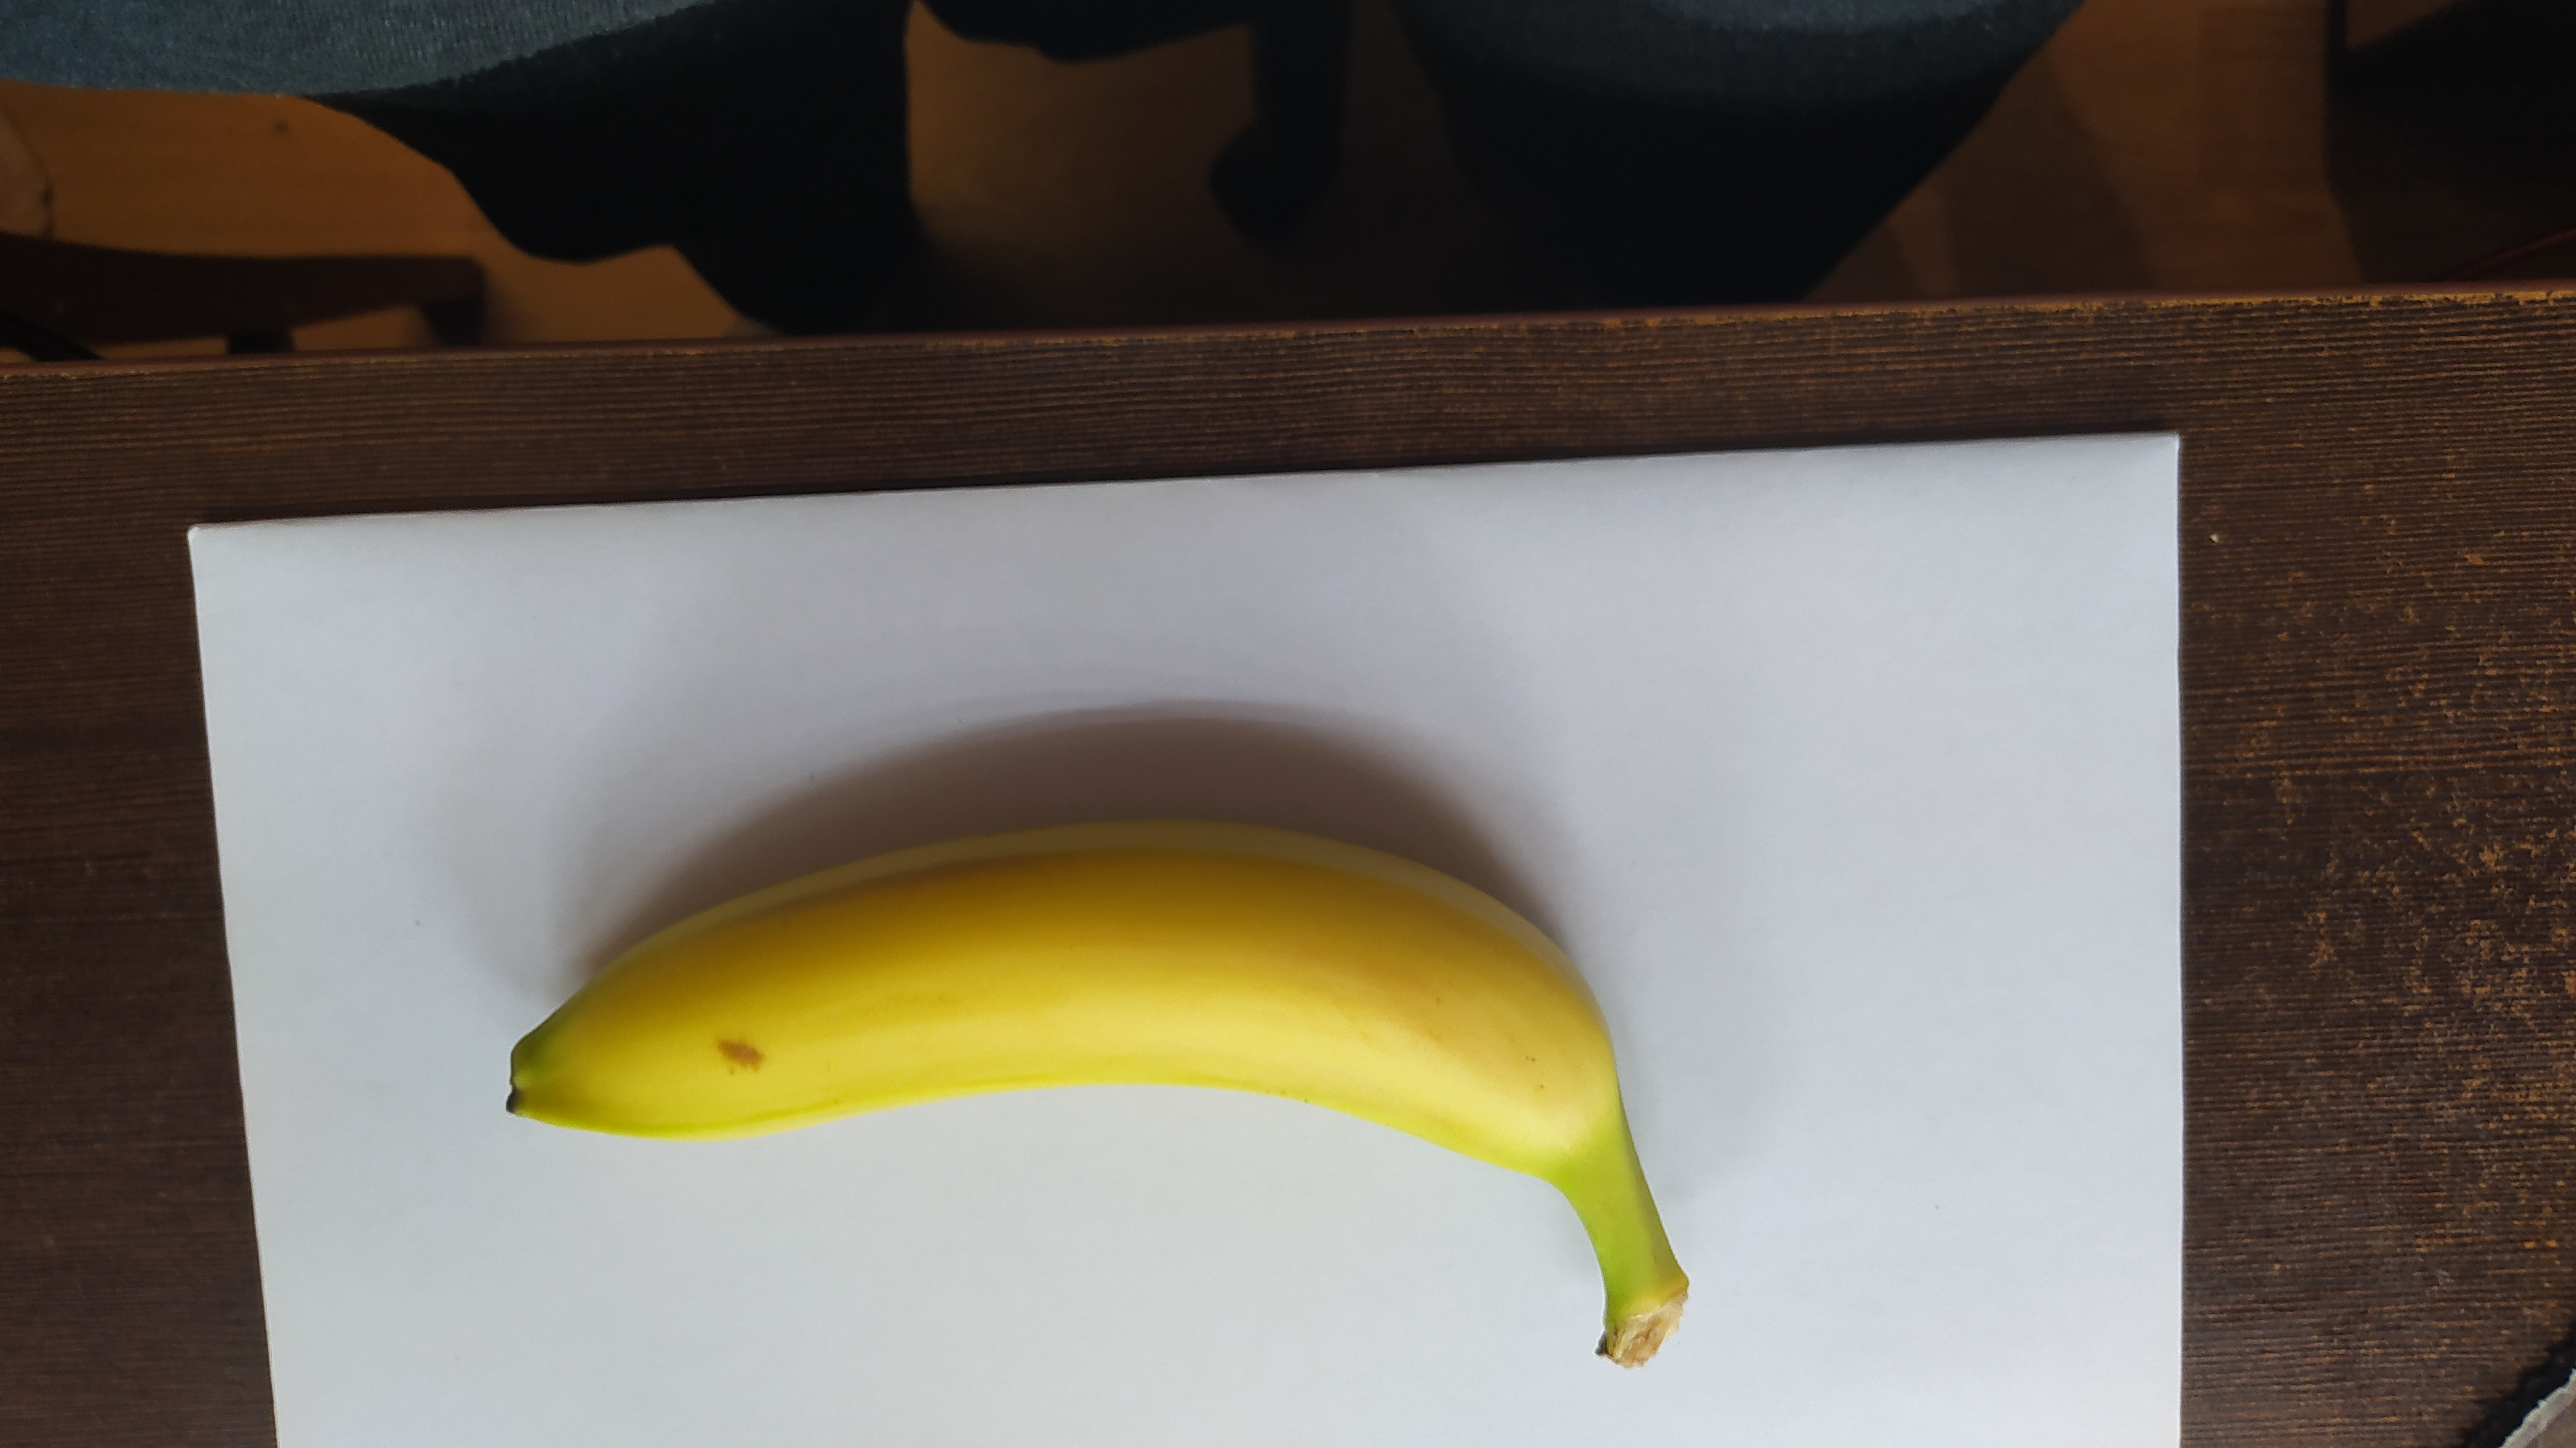banana: (504, 811, 1693, 1372)
